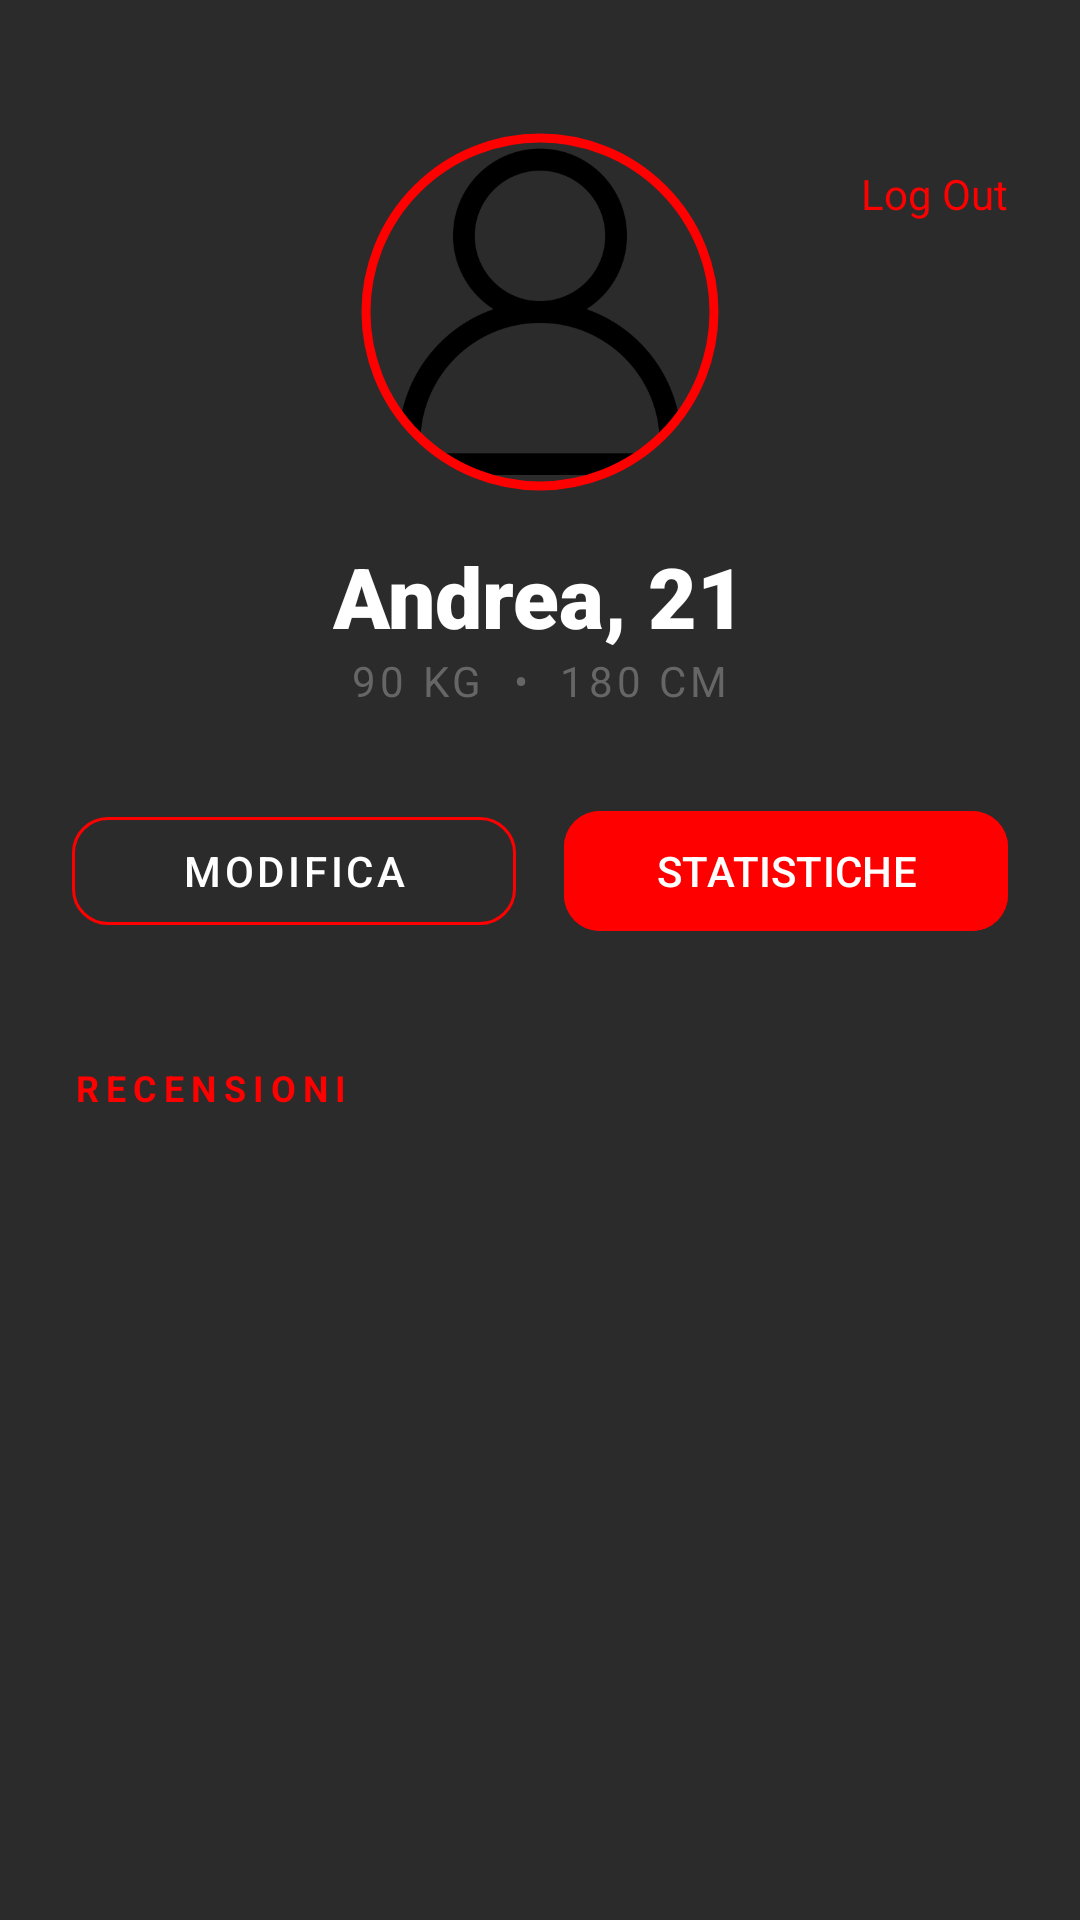

Where to tap for icons on this 1080w x 1920h app screen, as (x=x, y=y):
icona profilo navbar: (x=540, y=312)
